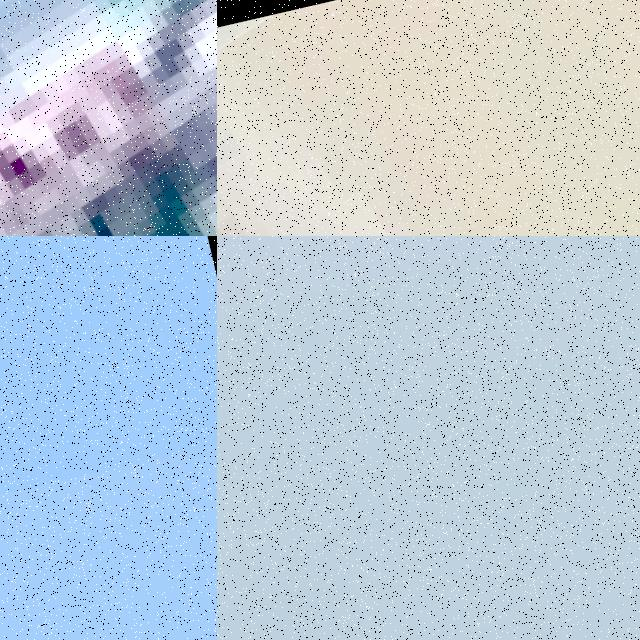drone: (217, 0, 640, 236), (0, 0, 217, 236)
